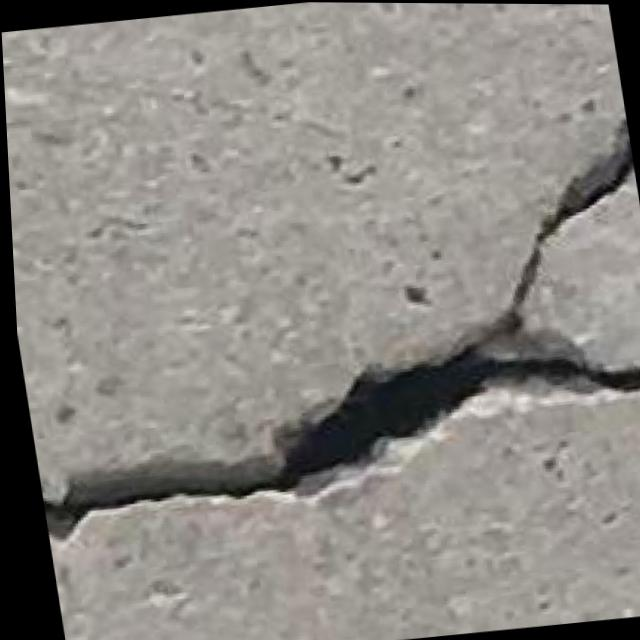Crack: (5, 116, 640, 571)
